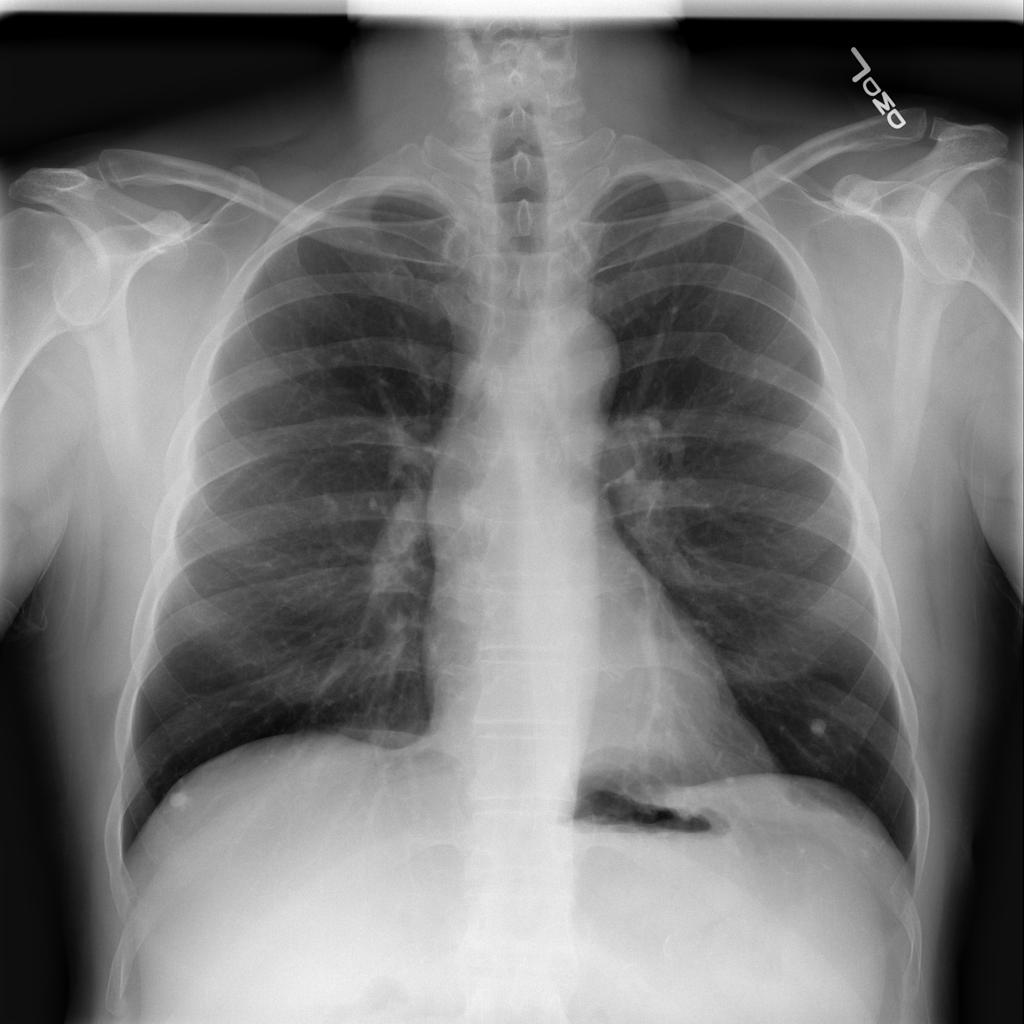nodule: (155, 776, 209, 824), (791, 702, 843, 750)
